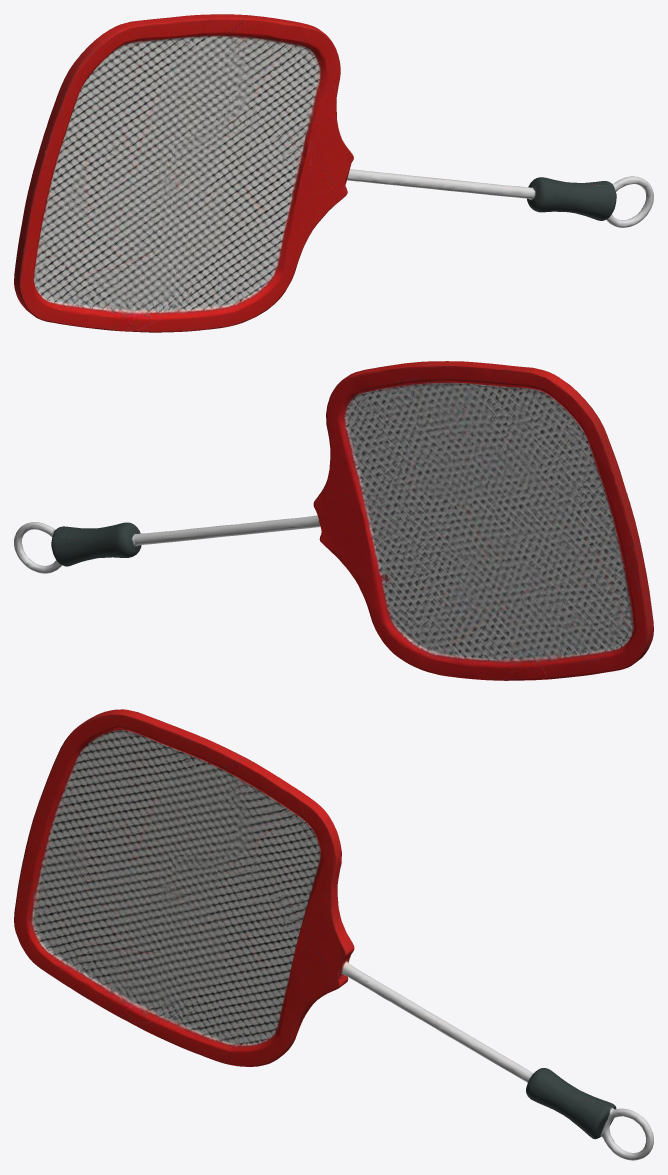
Rendered from swatter.glb.
The picture shows the model from 3 angles, top to bottom: view 1: azimuth 30°, elevation 25°; view 2: azimuth 150°, elevation 25°; view 3: azimuth 330°, elevation 25°; orthographic projection.
Parts seen in each view (by area): view 1: Mesh_0; view 2: Mesh_0; view 3: Mesh_0.
Part boxes in pixels (box(x1,y1,x2,y2)): Mesh_0: box(14, 14, 653, 332); Mesh_0: box(14, 361, 653, 680); Mesh_0: box(14, 709, 653, 1160).
Size of the model in its own units: 1.9 by 0.9249 by 0.1018.
1 material, 1 textured.
